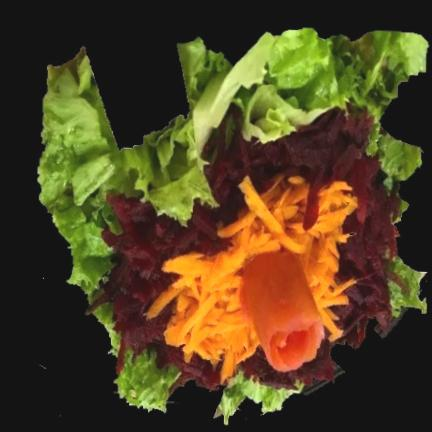beet: (88, 108, 398, 387)
carrot: (162, 174, 355, 380)
salad: (37, 28, 427, 300)
tomato: (241, 251, 323, 371)
